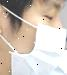with_mask: (2, 1, 67, 75)
